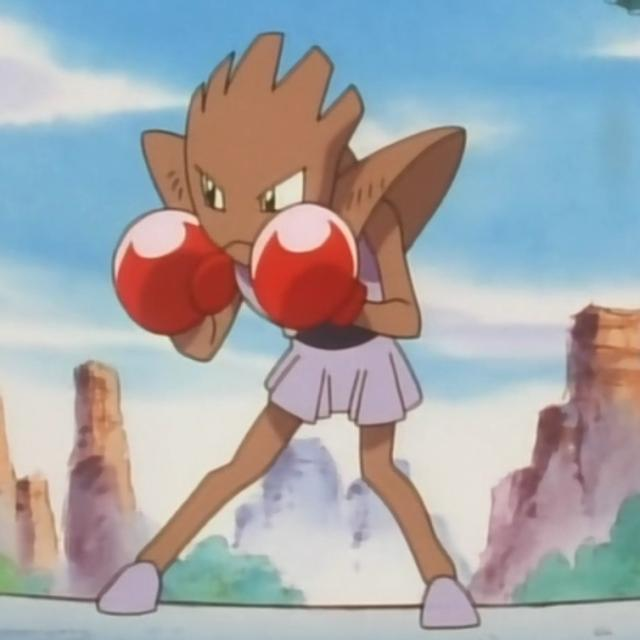Hitmonchan: (101, 23, 492, 640)
